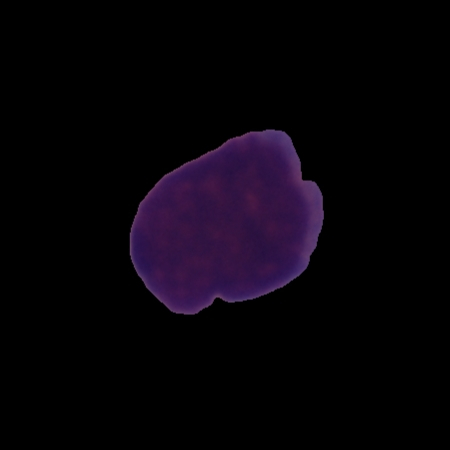ALL: (126, 125, 327, 318)
